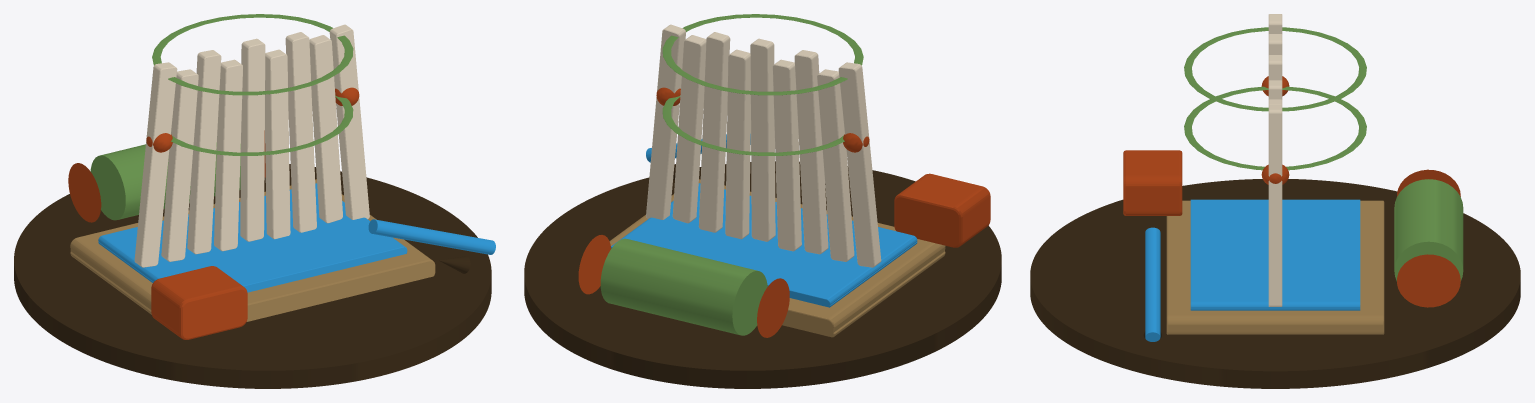
The model's file is 0593_考古图鉴_碳化面包.glb.
The picture shows the model from 3 angles, left to right: view 1: azimuth 30°, elevation 25°; view 2: azimuth 150°, elevation 25°; view 3: azimuth 270°, elevation 25°; orthographic projection. The views are drawn at different scales.
Visible parts, largest first — view 1: card_0593; view 2: card_0593; view 3: card_0593.
Part boxes in pixels (x1,y1,x2,y2): card_0593: (14, 14, 495, 388); card_0593: (524, 14, 1001, 388); card_0593: (1030, 14, 1520, 388).
Bounding box in the file's own units: 1.76 × 1 × 1.89.
